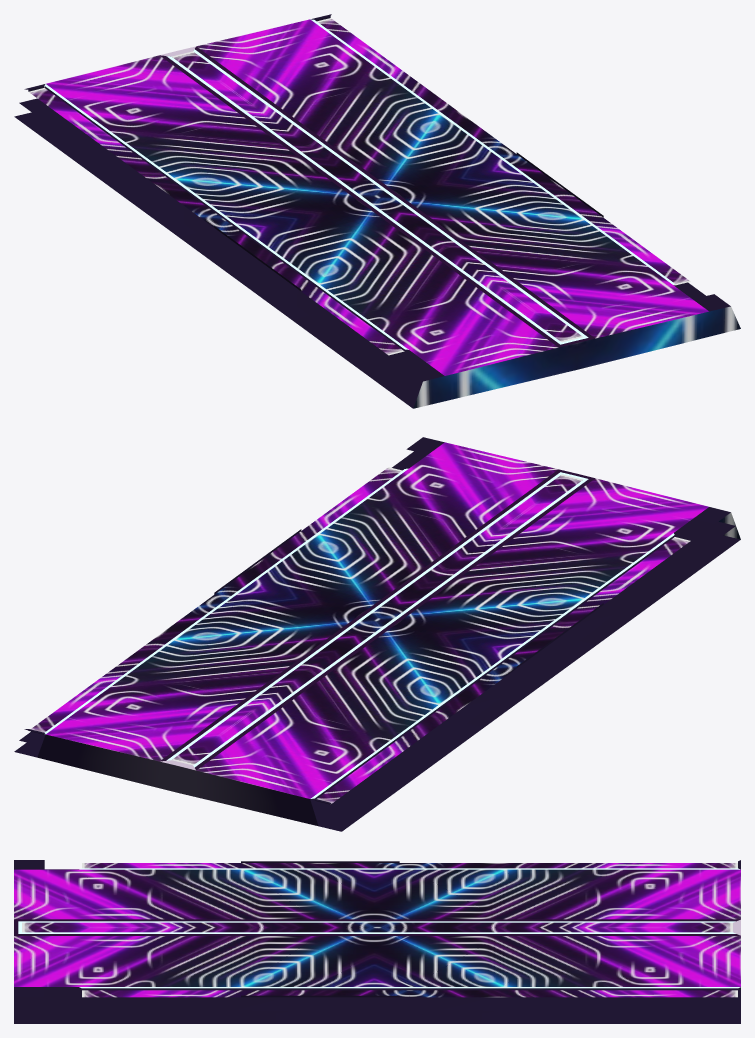
File: track.glb
3 views of the same model, one above another, from view 1: azimuth 30°, elevation 25°; view 2: azimuth 150°, elevation 25°; view 3: azimuth 270°, elevation 25° (orthographic). The views are drawn at different scales.
Parts seen in each view (by area): view 1: Road_Plane_1; view 2: Road_Plane_1; view 3: Road_Plane_1.
Boxes of the visible parts, bbox=[...] form: Road_Plane_1: bbox=[14, 14, 740, 408]; Road_Plane_1: bbox=[14, 437, 740, 831]; Road_Plane_1: bbox=[14, 860, 740, 1023].
Bounding box in the file's own units: 3.51 × 0.2758 × 7.41.
2 materials, 1 textured.
